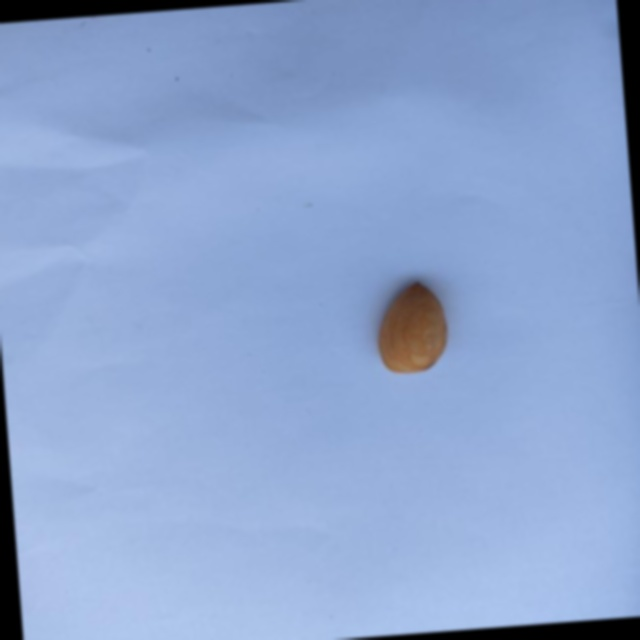grade2: (367, 277, 454, 379)
